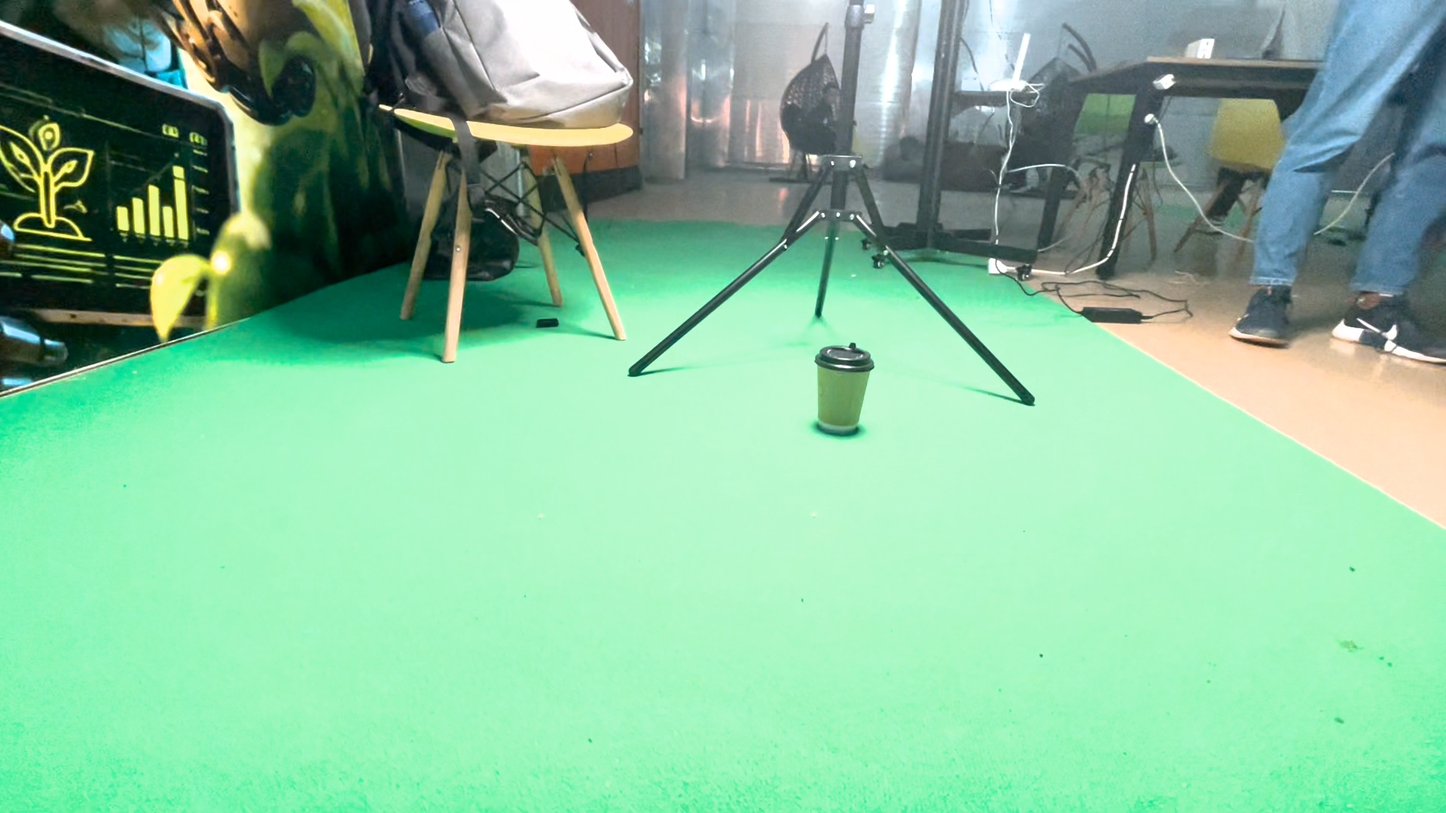cup: (688, 431, 811, 602)
